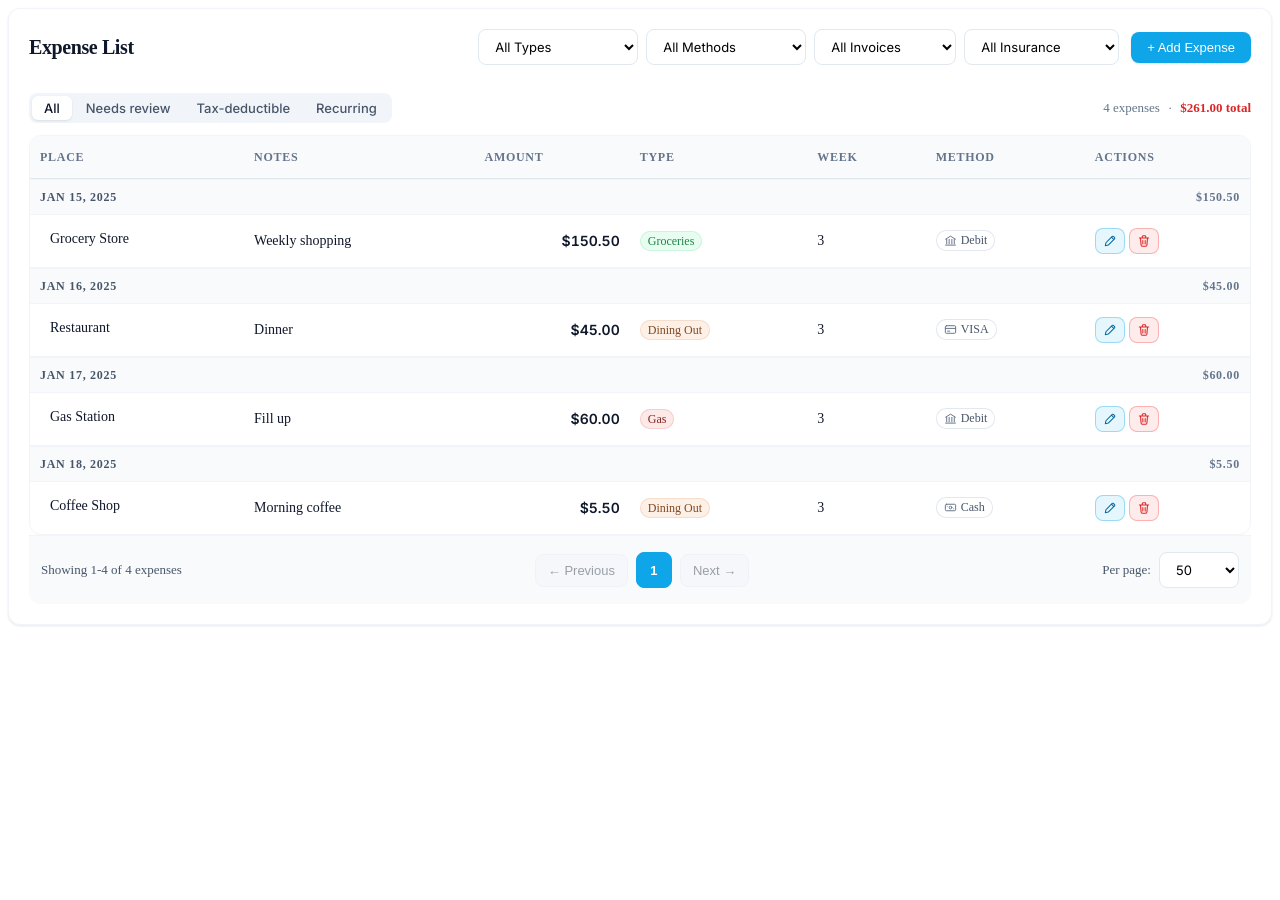
Scenario: ExpenseList - Local Filtering (Monthly View) › should apply both category and payment method filters together
// Apply category filter for "Dining Out"
Select "Dining Out" in the 1st dropdown with class "filter-select": (558, 47) [478,29,638,65]
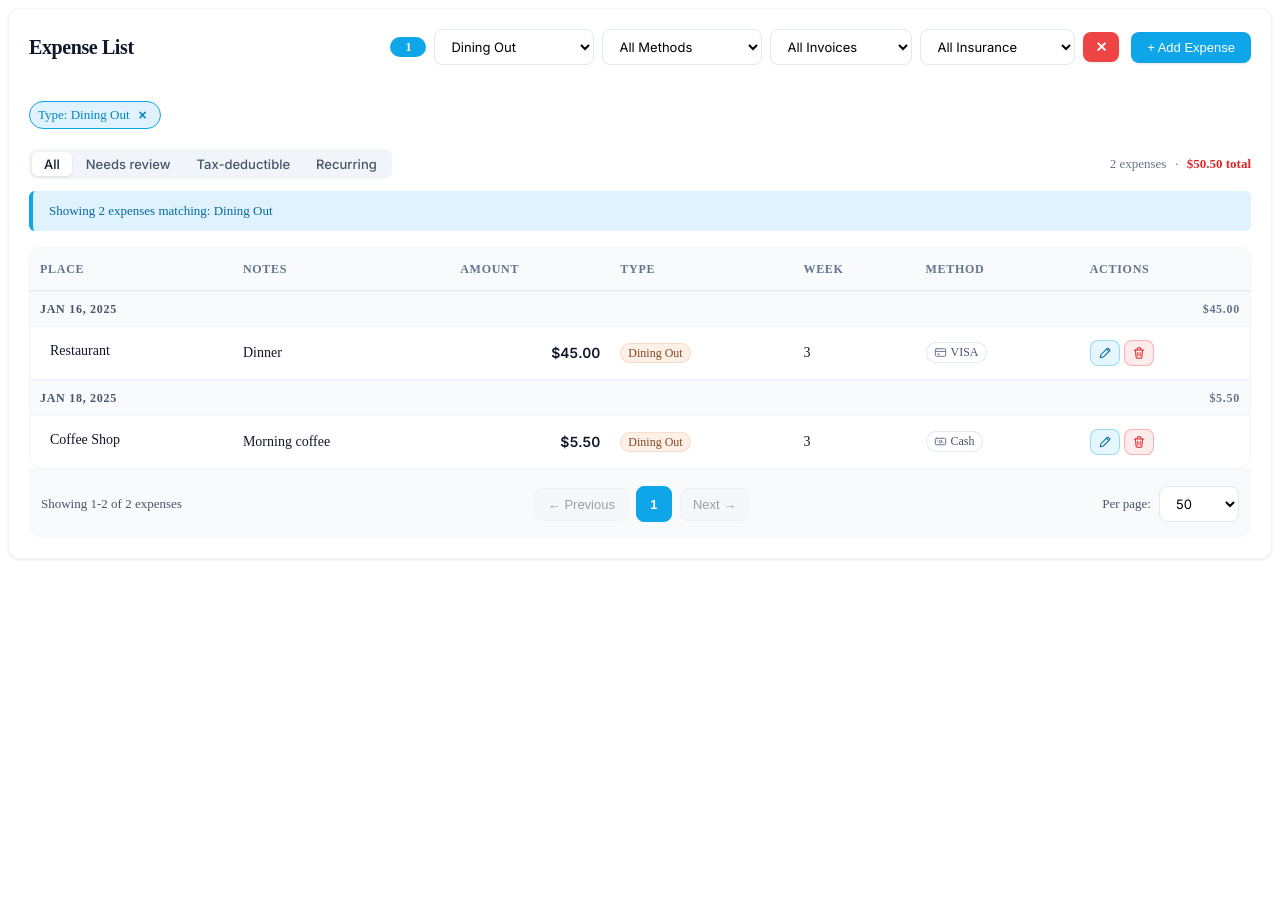
// Apply payment method filter for "VISA" using smart filter encoding
Select "VISA" in the 2nd dropdown with class "filter-select": (682, 47) [602,29,762,65]
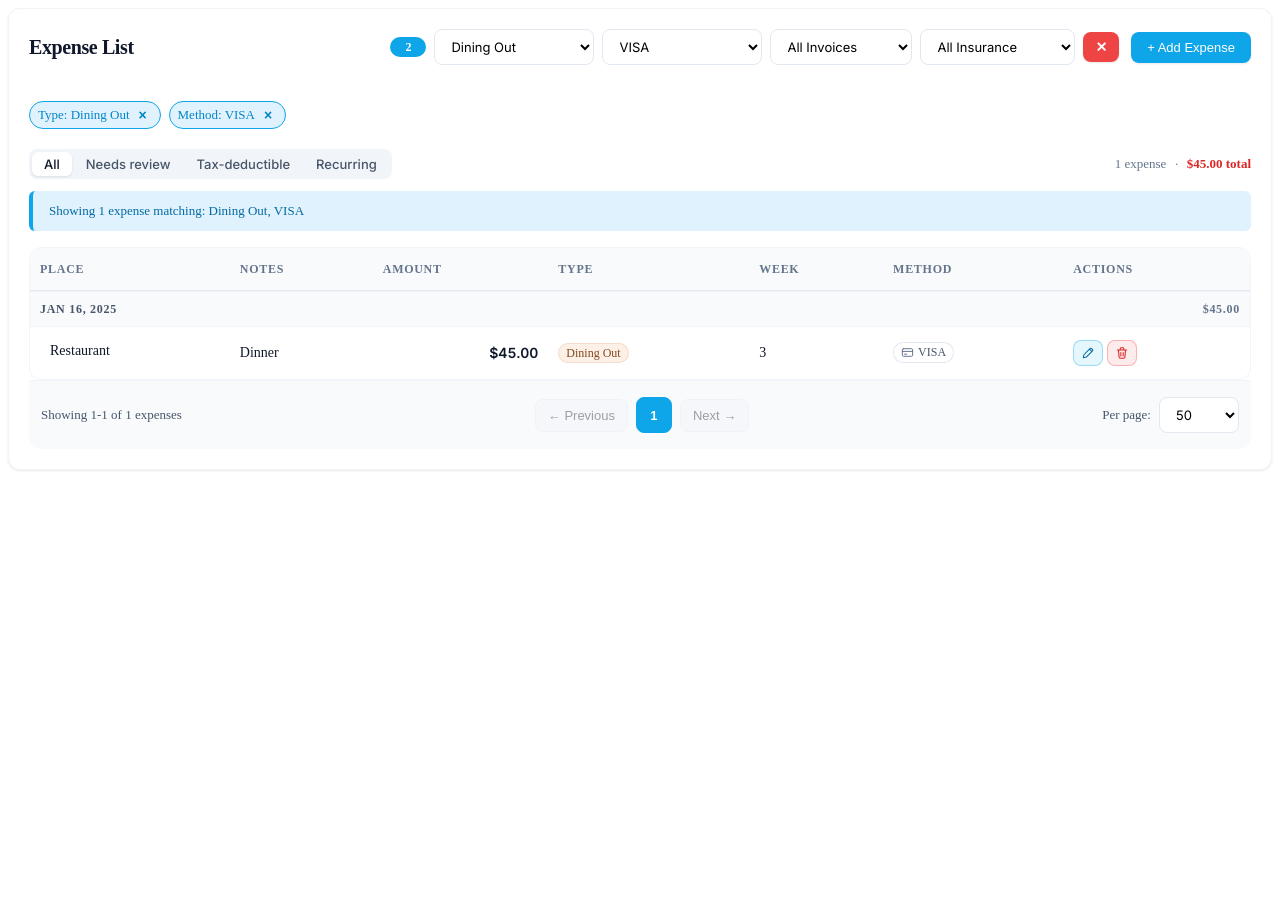
Check: the text "Restaurant" is shown, box [50,343,110,358]
Check: the text "Coffee Shop" is gone
